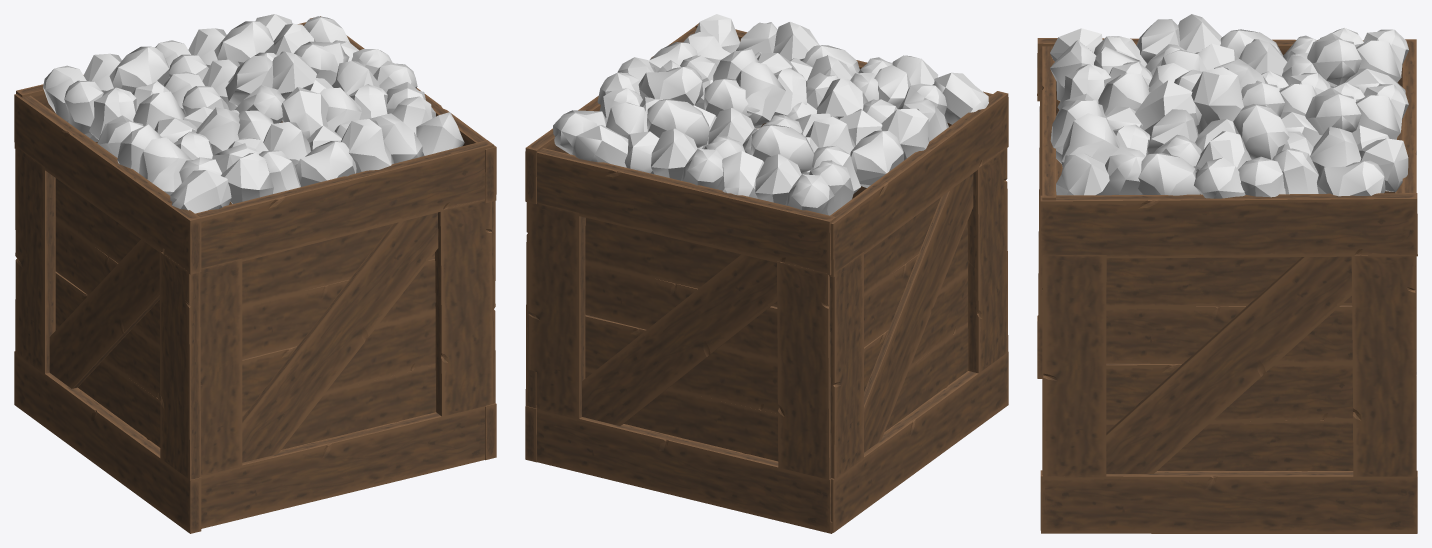
File: CoalCrate.FBX
3 views of the same model, side by side, from view 1: azimuth 30°, elevation 25°; view 2: azimuth 150°, elevation 25°; view 3: azimuth 270°, elevation 25° (orthographic). The views are drawn at different scales.
Visible parts, largest first — view 1: PLONKUnwrapped019, PLONKUnwrapped021, RuneStone057, PLONKUnwrapped022; view 2: PLONKUnwrapped020, PLONKUnwrapped021, RuneStone057, PLONKUnwrapped022; view 3: PLONKUnwrapped022, RuneStone057, PLONKUnwrapped019, PLONKUnwrapped020, PLONKUnwrapped021.
Boxes of the visible parts, bbox=[...] form: PLONKUnwrapped019: bbox=[195, 140, 493, 528]; PLONKUnwrapped021: bbox=[14, 94, 201, 533]; RuneStone057: bbox=[43, 14, 464, 213]; PLONKUnwrapped022: bbox=[310, 16, 496, 460]; PLONKUnwrapped020: bbox=[526, 148, 835, 533]; PLONKUnwrapped021: bbox=[829, 91, 1008, 532]; RuneStone057: bbox=[553, 14, 988, 215]; PLONKUnwrapped022: bbox=[525, 26, 696, 462]; PLONKUnwrapped022: bbox=[1040, 193, 1417, 533]; RuneStone057: bbox=[1050, 14, 1408, 198]; PLONKUnwrapped019: bbox=[1042, 46, 1062, 474]; PLONKUnwrapped020: bbox=[1395, 39, 1416, 432]; PLONKUnwrapped021: bbox=[1037, 38, 1402, 378].
Bounding box in the file's own units: 3.04 × 3.04 × 3.54.
